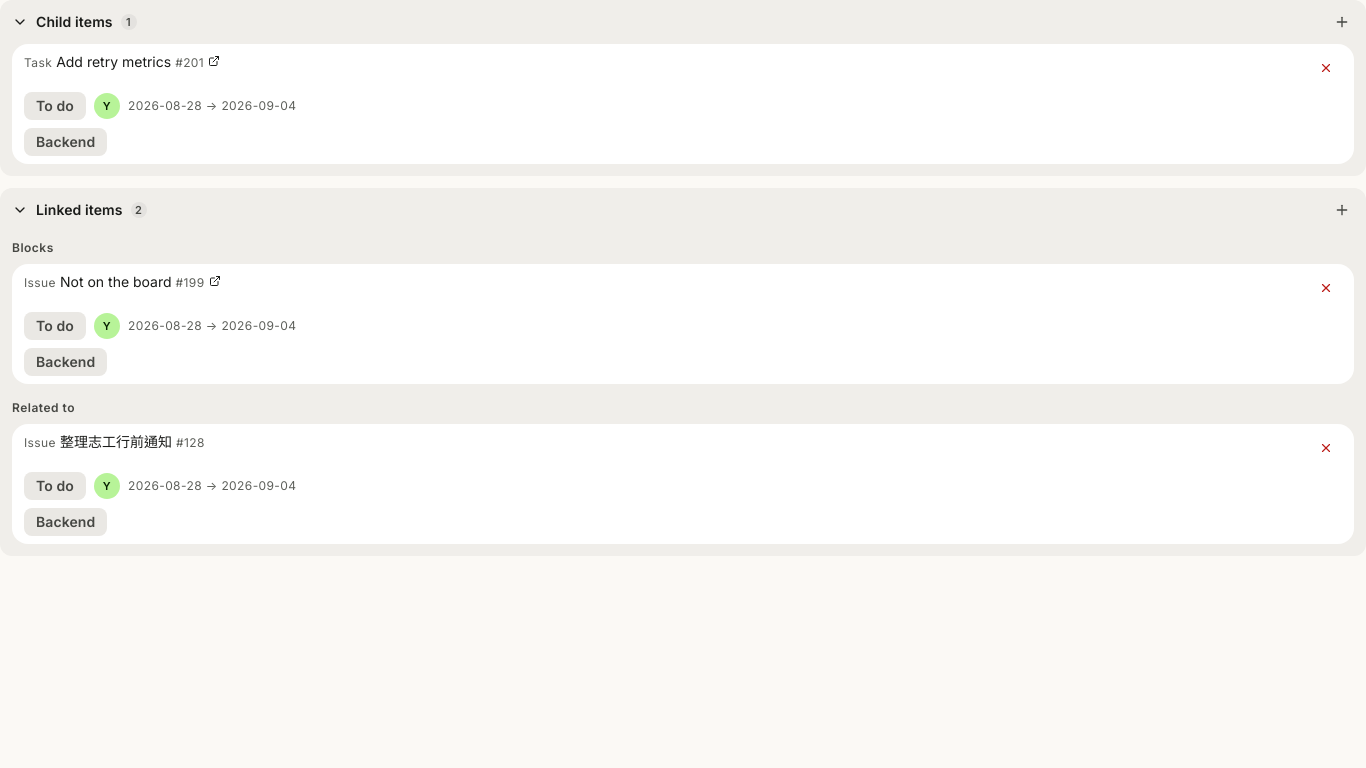
CardRelationships › creates a child task and keeps the title when GitLab rejects it
This screenshot has width=1366, height=768.
Expected: the text "Add retry metrics" is shown, [56, 52, 171, 72]
Click the button named "新增 Child item" at (1342, 22), box [1326, 6, 1358, 38]
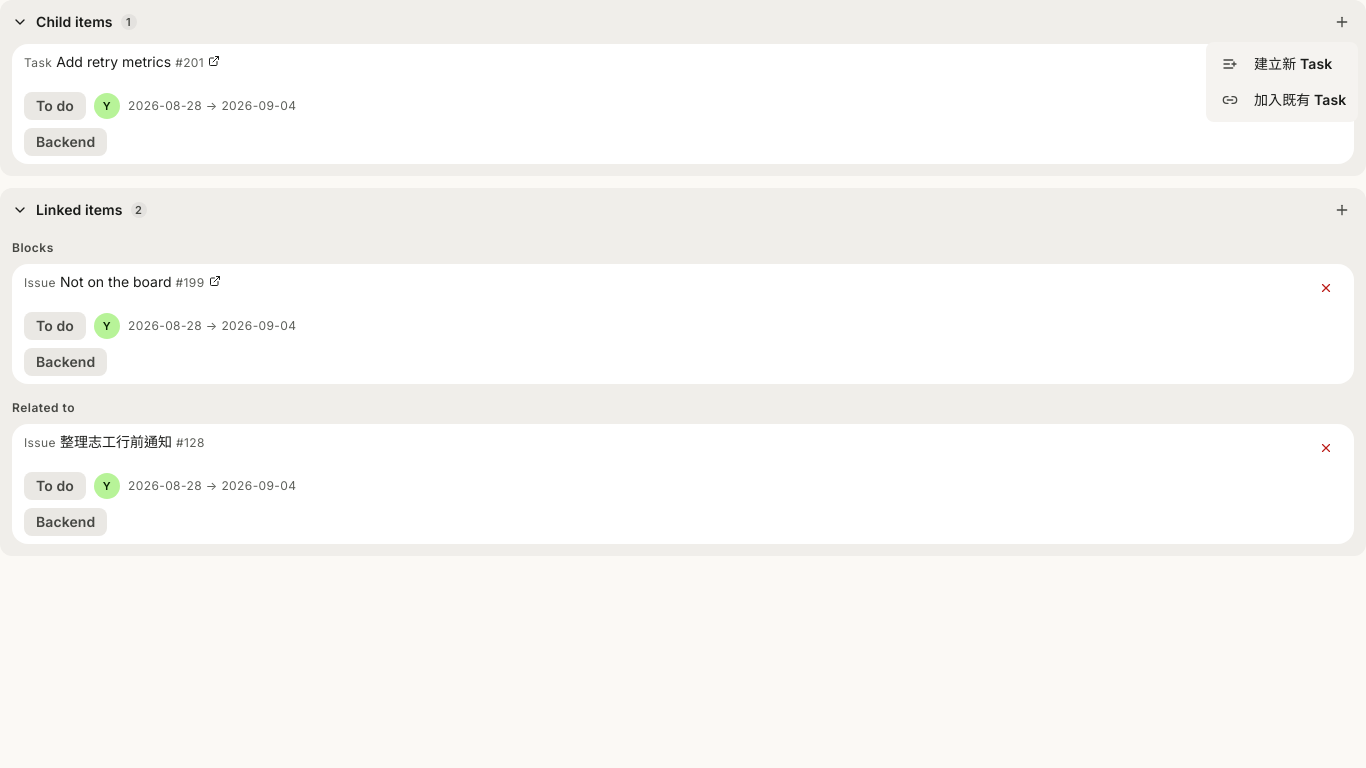
Click the menu item "建立新 Task" at (1277, 64), box [1222, 55, 1332, 72]
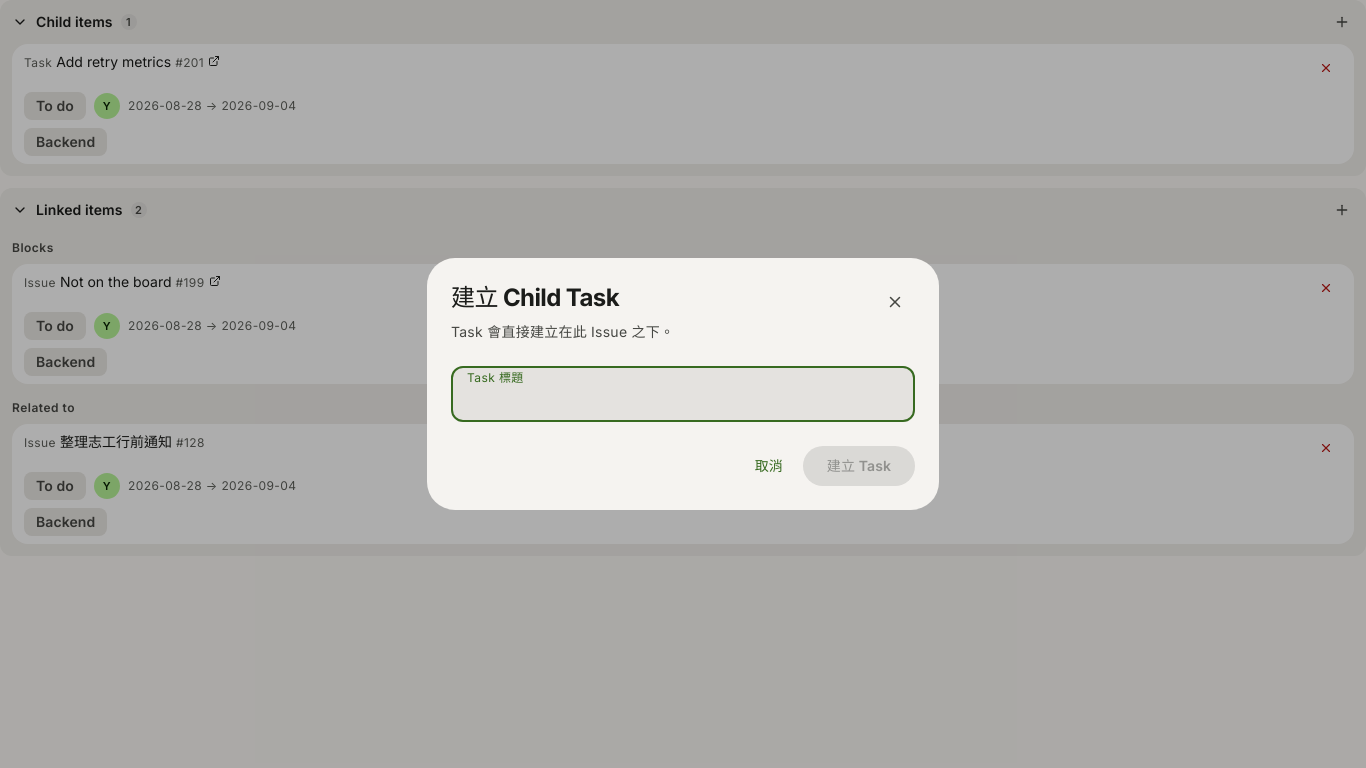
Type "Instrument retry queue" into the field labelled "Task 標題" at (683, 394), box [451, 370, 915, 418]
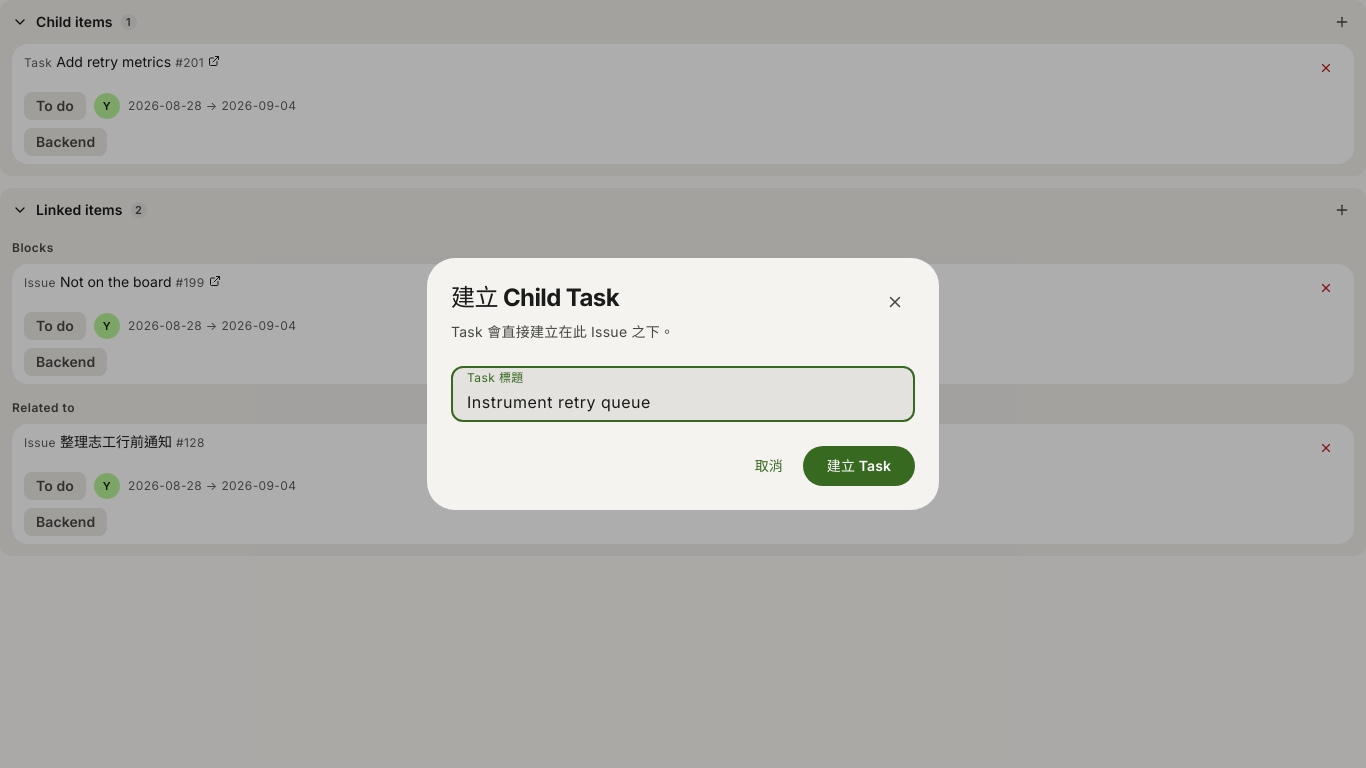
Click the button "建立 Task" at (859, 466), box [803, 446, 915, 486]
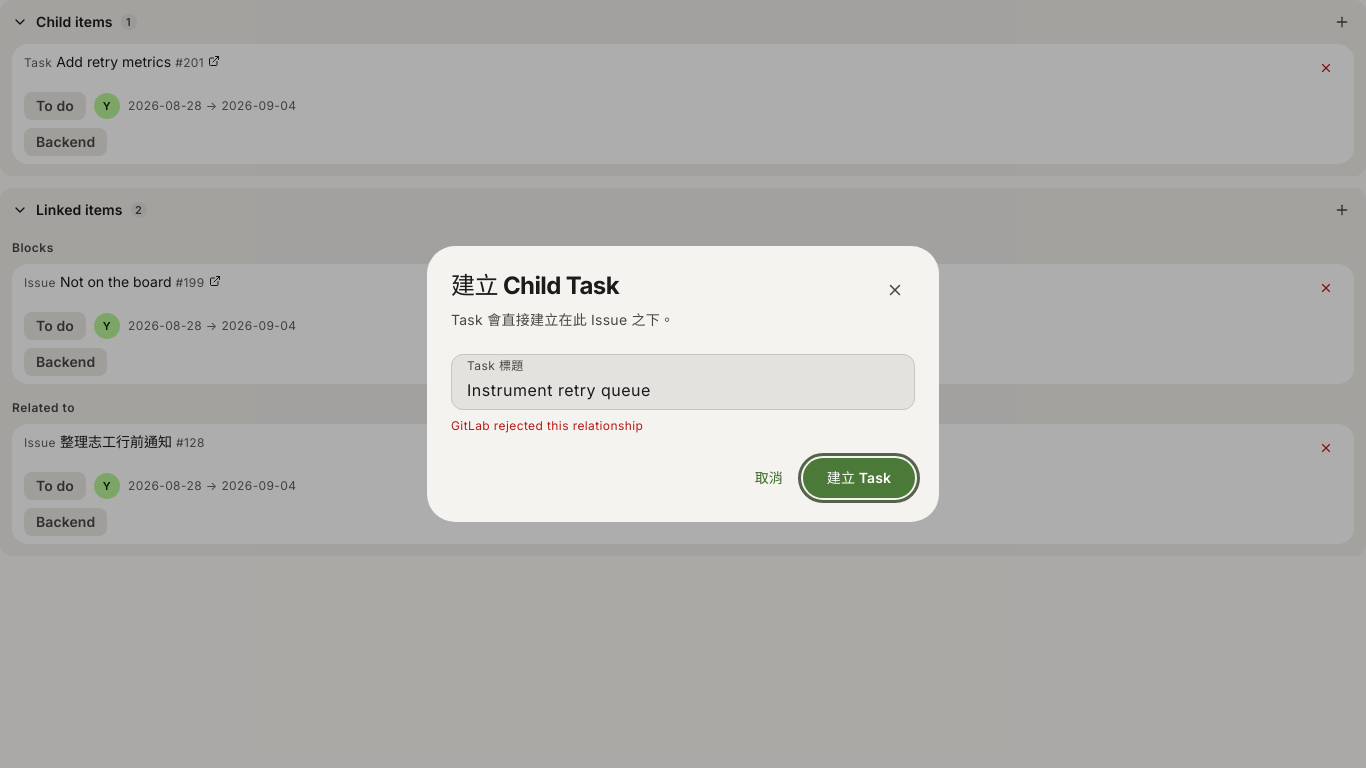
Expected: the message reads "GitLab rejected this relationship", [451, 418, 643, 433]
